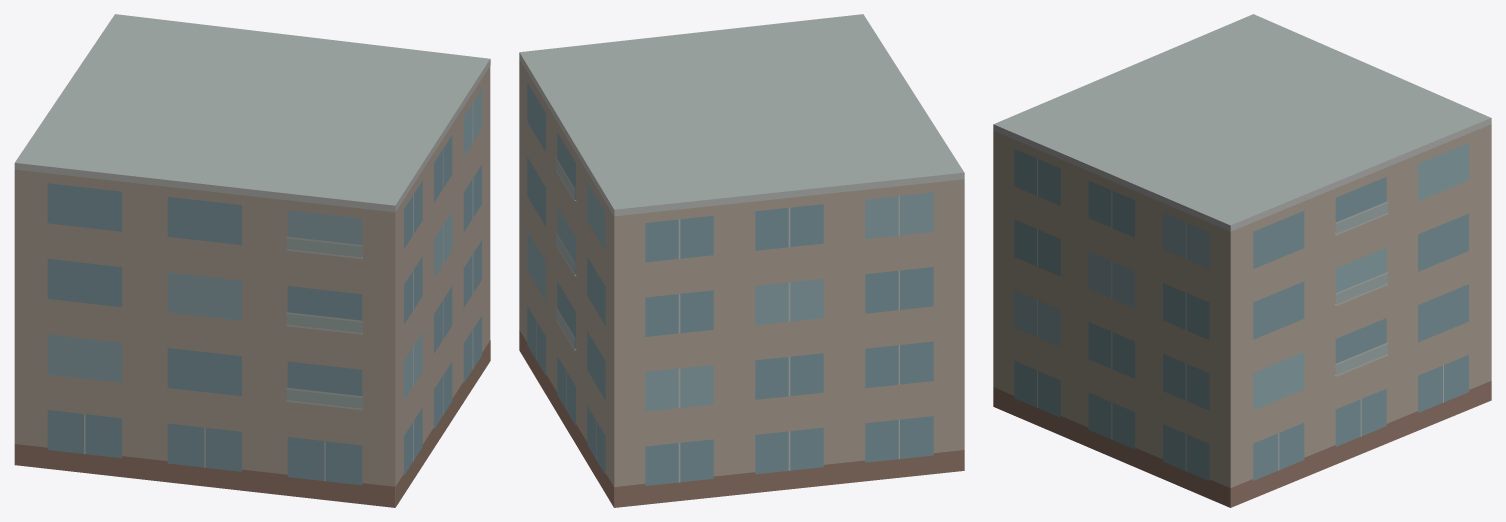
File: survey-upis-32744160.glb
The picture shows the model from 3 angles, left to right: view 1: azimuth 30°, elevation 25°; view 2: azimuth 150°, elevation 25°; view 3: azimuth 270°, elevation 25°; orthographic projection. The views are drawn at different scales.
Parts seen in each view (by area): view 1: survey-upis-32744160.tmp; view 2: survey-upis-32744160.tmp; view 3: survey-upis-32744160.tmp.
Boxes of the visible parts, x1=… form: survey-upis-32744160.tmp: x1=14, y1=14, x2=490, y2=507; survey-upis-32744160.tmp: x1=519, y1=14, x2=964, y2=507; survey-upis-32744160.tmp: x1=993, y1=14, x2=1491, y2=507.
Size of the model in its own units: 17.58 by 10.95 by 17.51.
